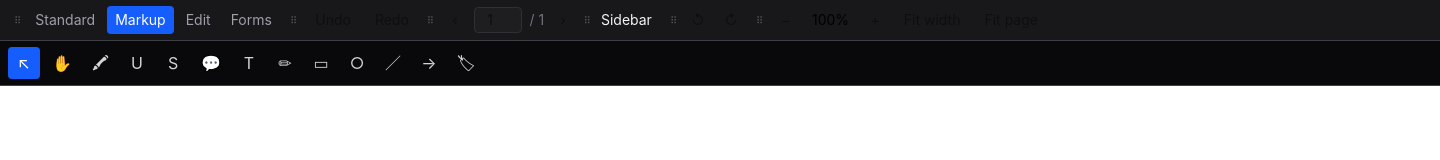
Test: Toolbar › shows edit tools below the main row when edit mode is selected
The width and height of the screenshot is (1440, 160).
Click the button with test id "toolbar-mode-edit" at [198, 20], box [178, 6, 219, 34]
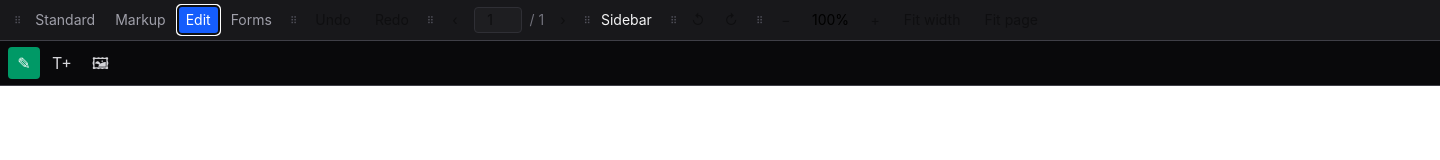
Result: the button with test id "tool-add-text-block" is shown at [44, 47, 80, 79]
Result: the button with test id "tool-edit-text" is shown at [8, 47, 40, 79]
